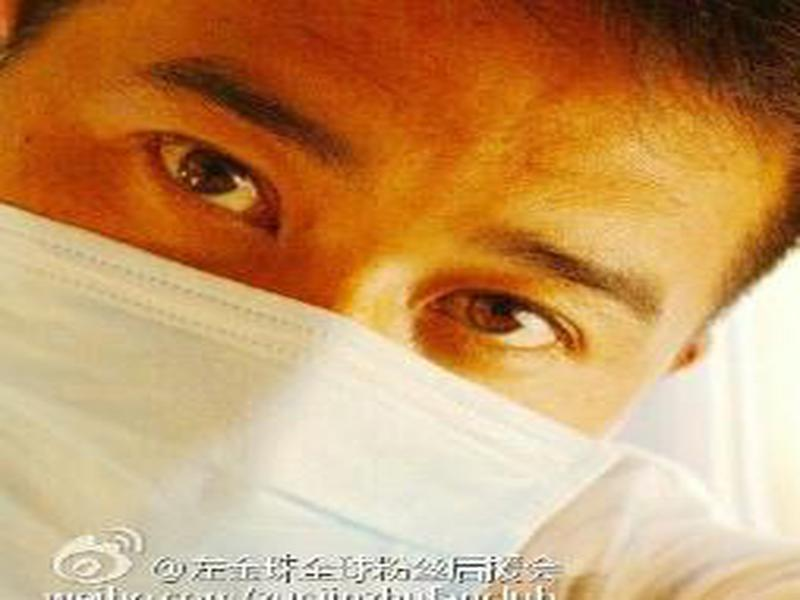with_mask: (1, 9, 790, 522)
